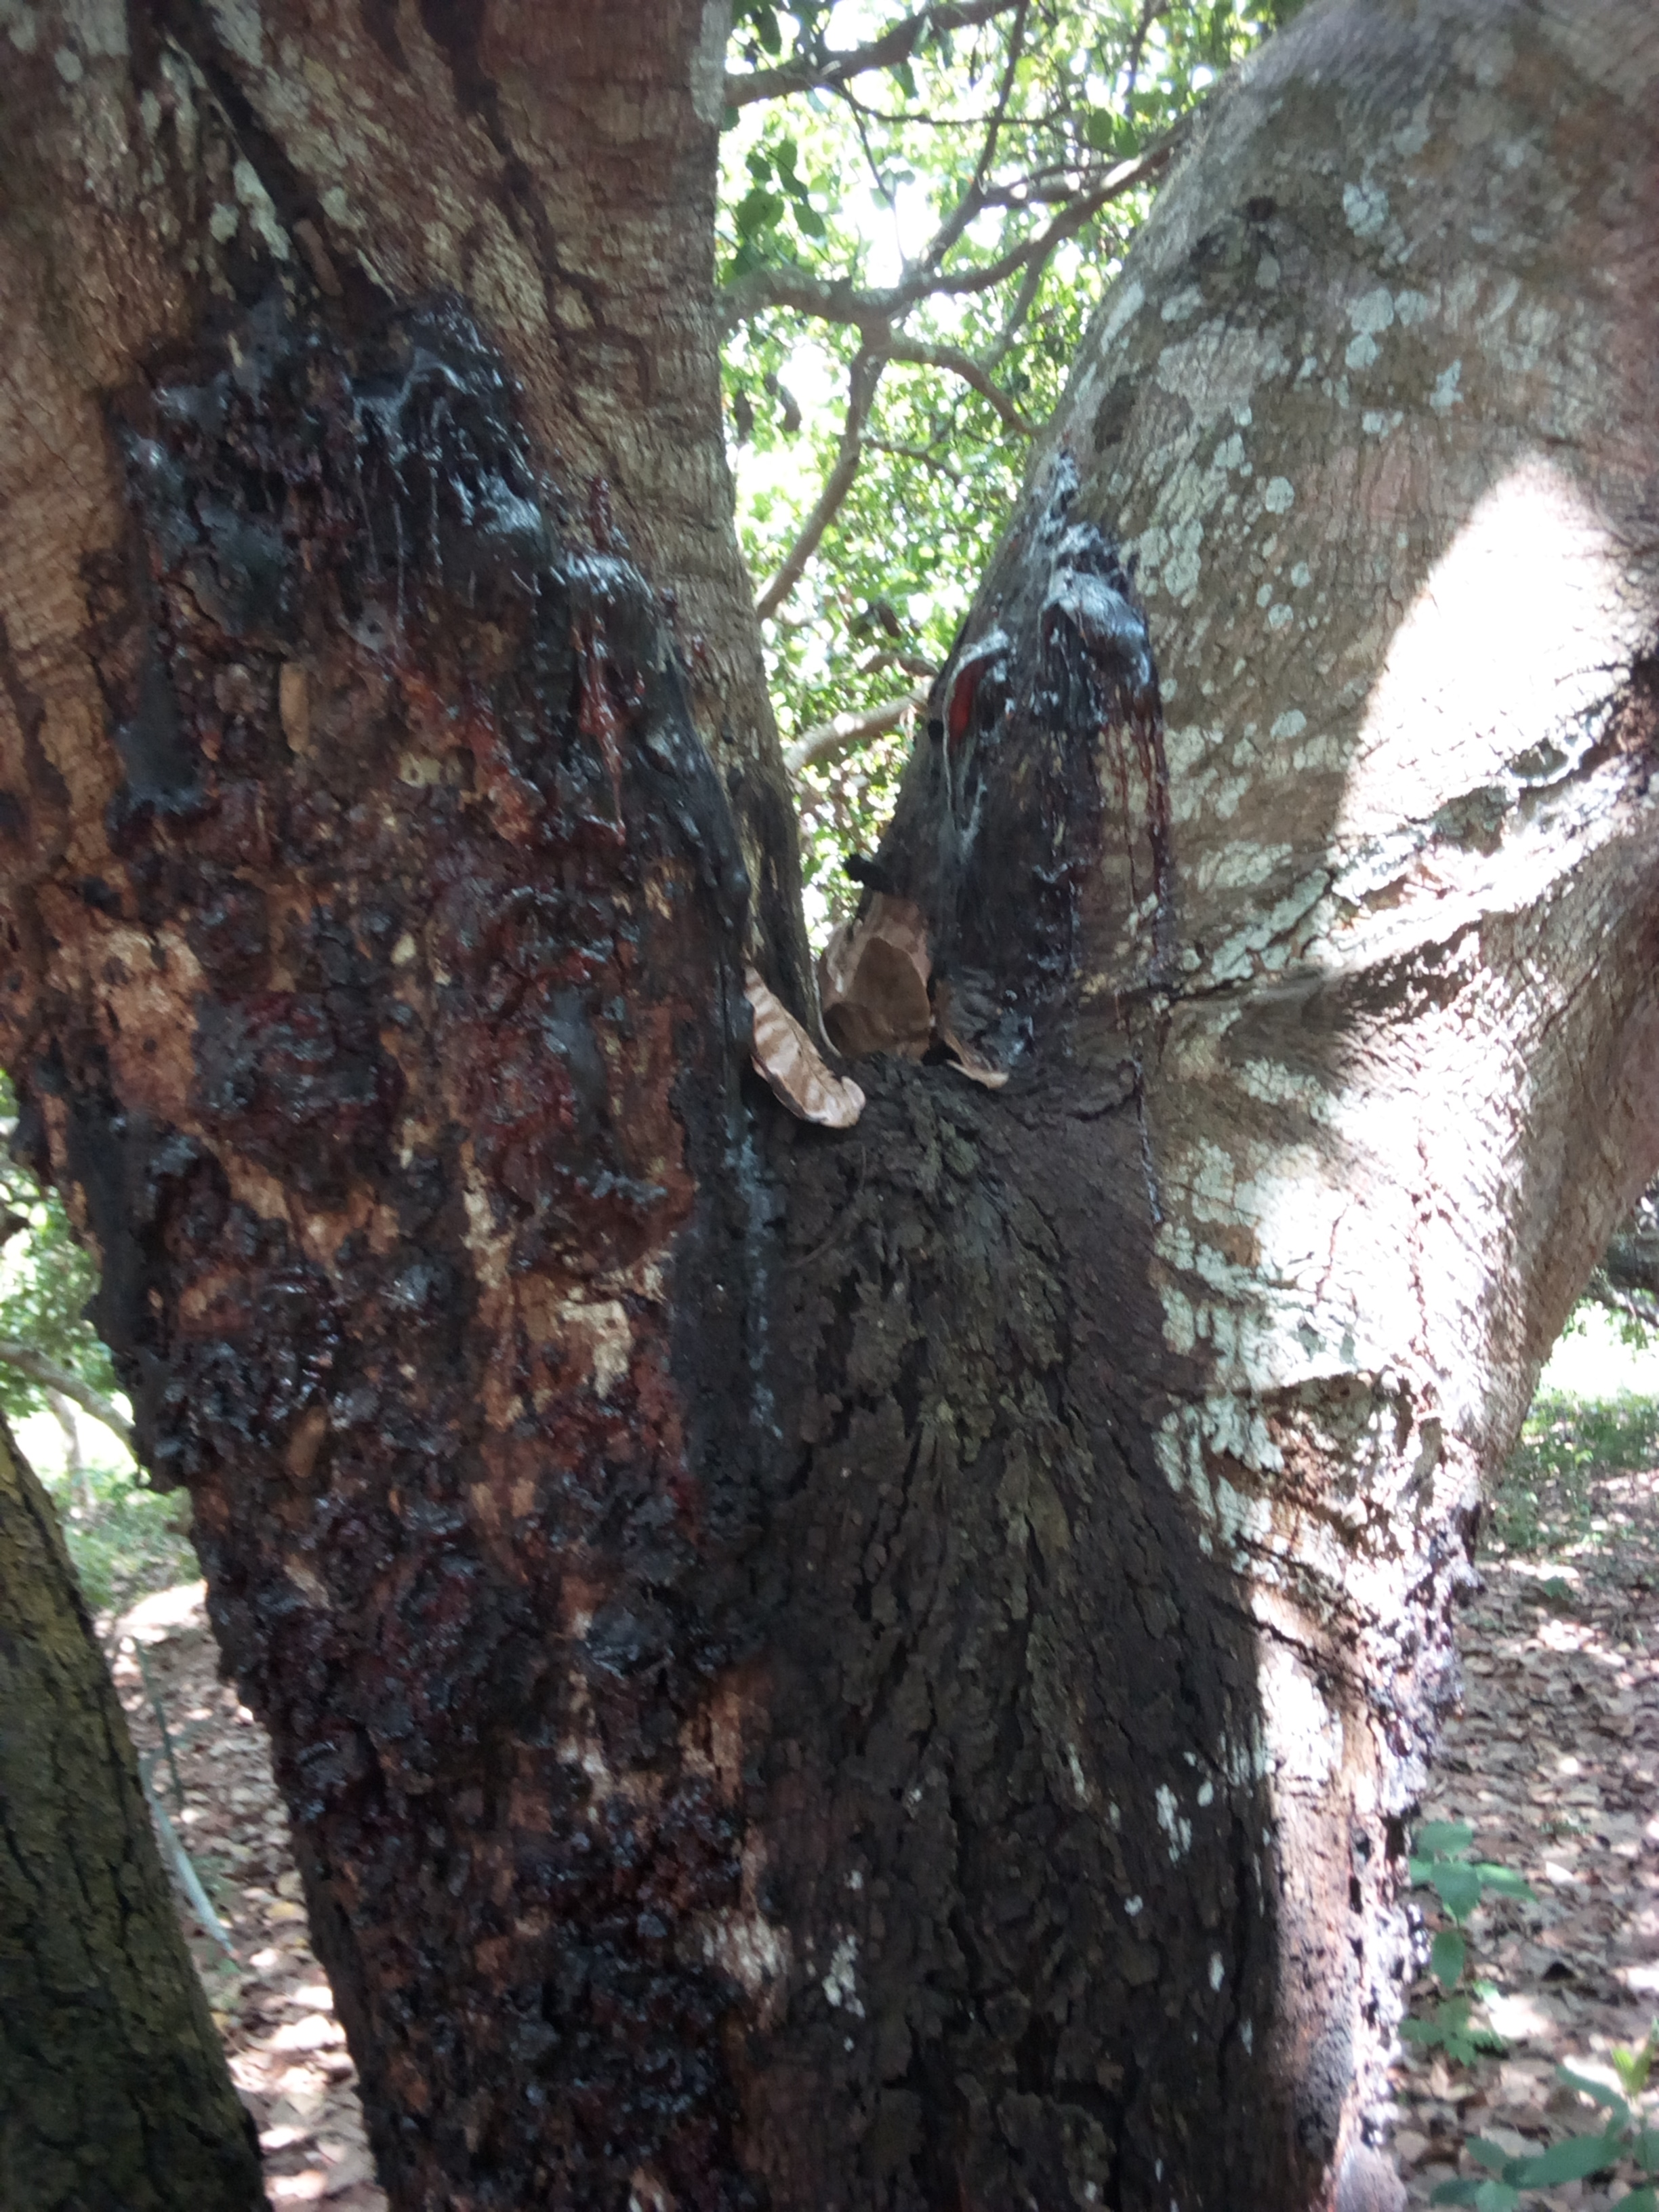Gommose: (60, 340, 721, 2163), (938, 594, 1199, 1045)
